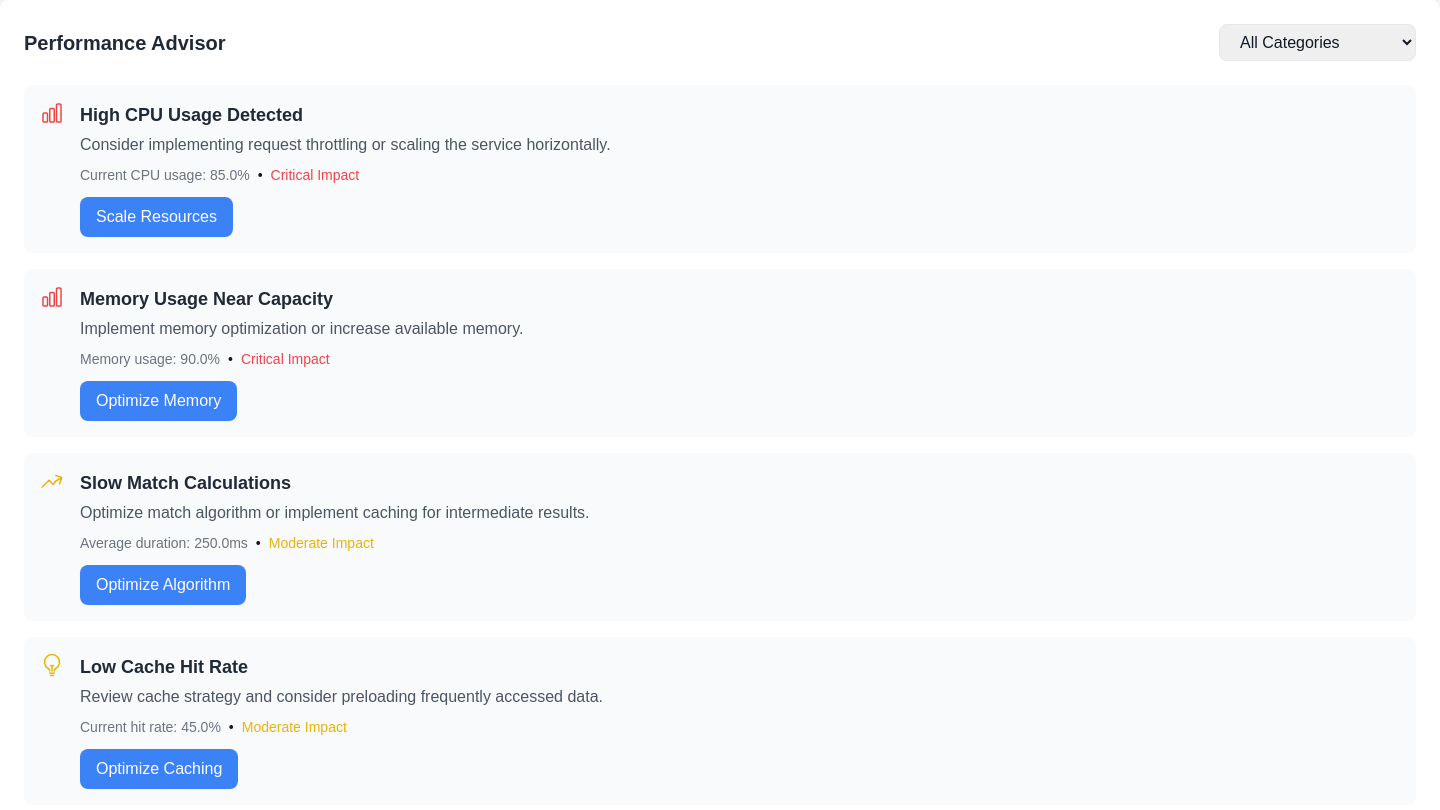
it: PerformanceAdvisor › Category Filtering › filters suggestions by category
The width and height of the screenshot is (1440, 810).
Select "System Resources" in the dropdown at (1318, 42), box [1219,24,1416,61]
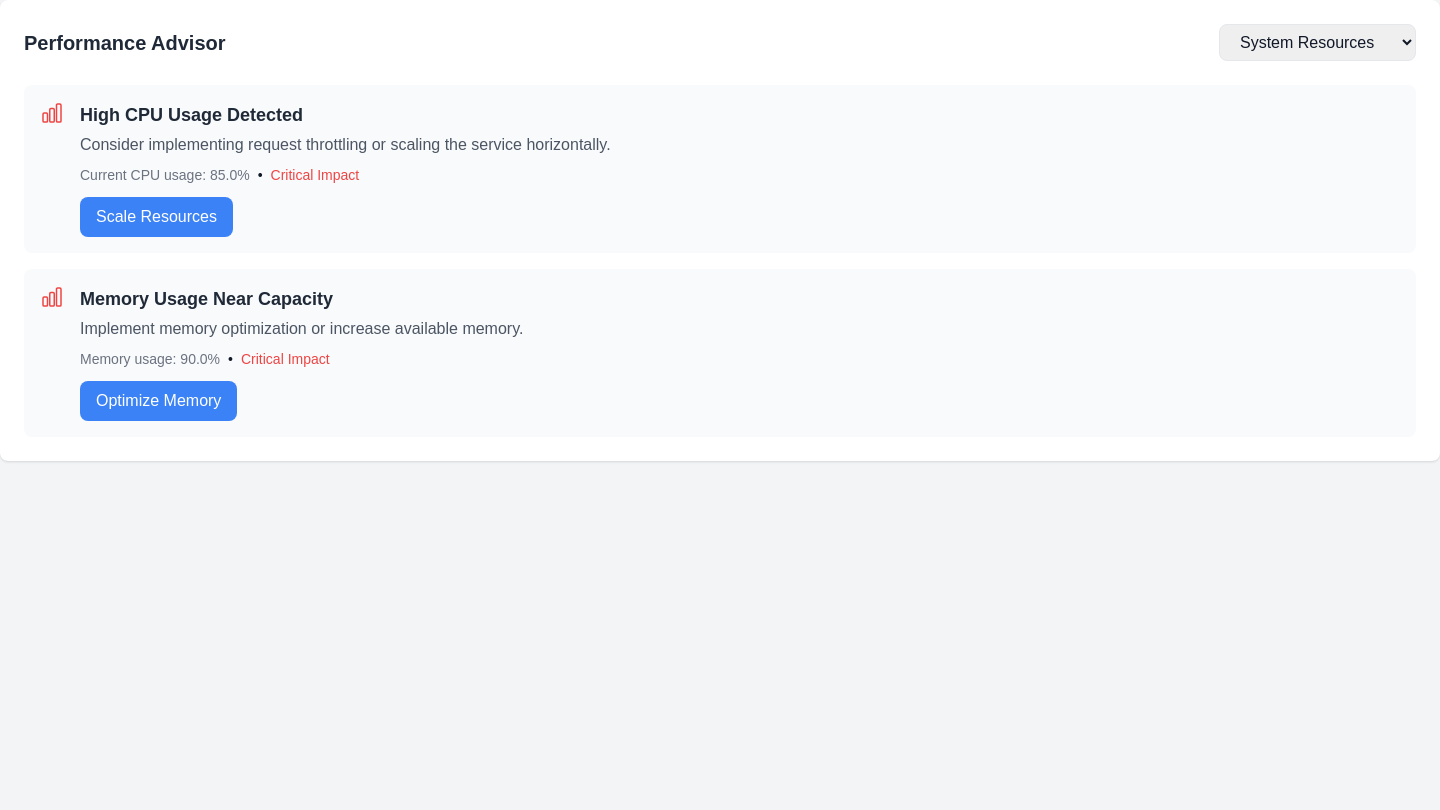
Expected: the heading "High CPU Usage Detected" is shown, [80,105,303,125]
Expected: the heading "Low Cache Hit Rate" is gone
